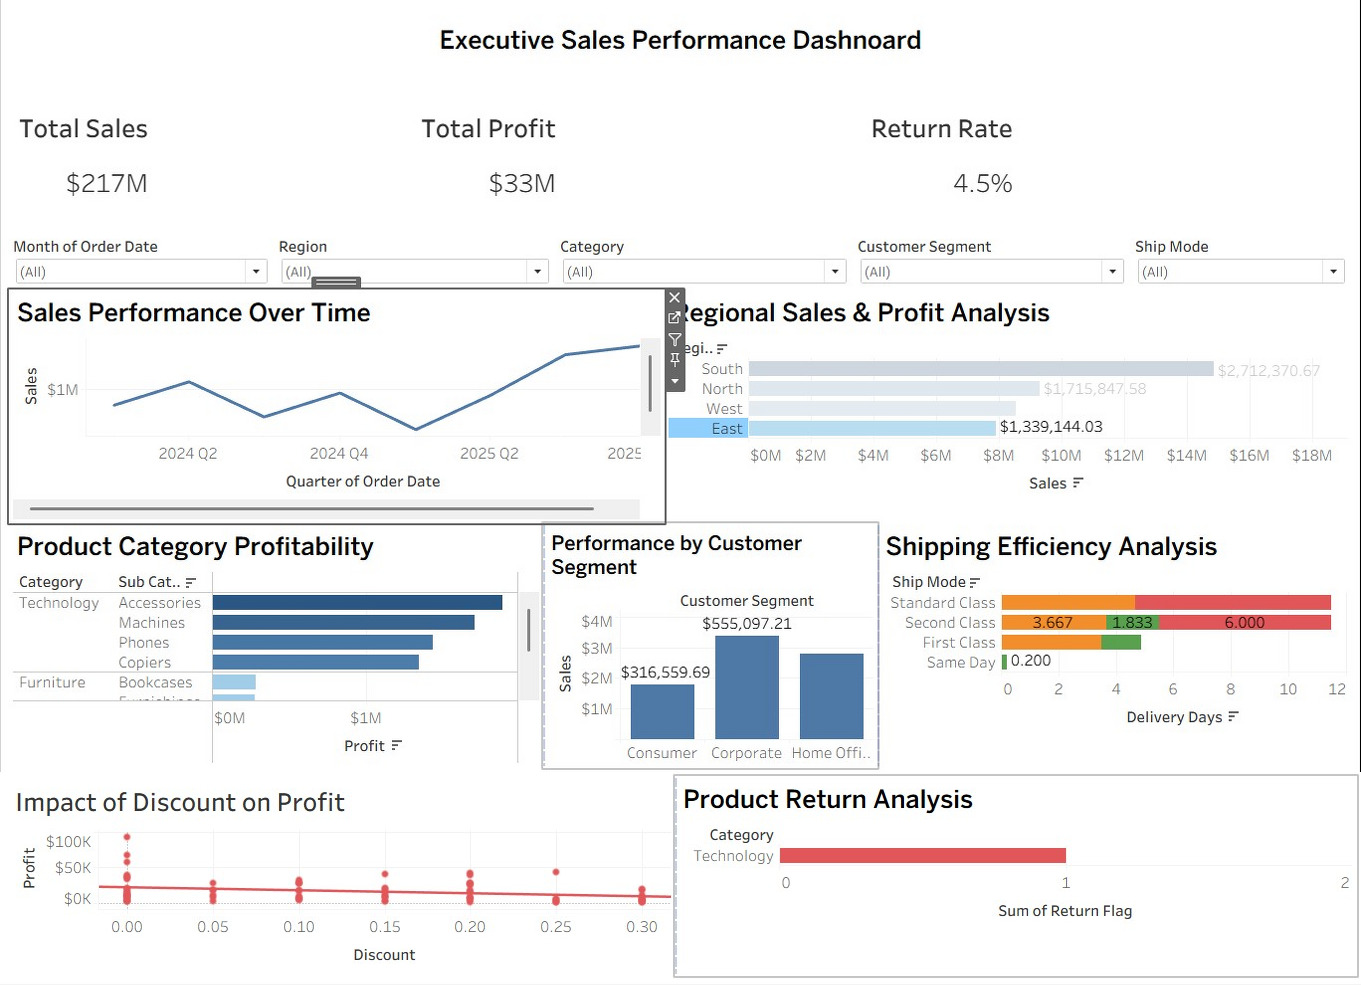

This screenshot's page, from the dashboard's own definition file:
{"tool":"tableau","page":{"name":"Sales Performance Dashboard","canvas":[1366,768],"ordinal":1},"visuals":[{"type":"text","box":[437.3,6.7,350.8,54.7]},{"type":"legend","title":"Regional Performance View","param":"[federated.09wcsd81232wdh13vvba10xhik3g].[sum:profit:qk]","box":[1198,8,160,73]},{"type":"worksheet","title":"Regional Performance View","mark":"Automatic","rows":["region"],"cols":["sales"],"box":[819.4,41.2,330.8,207.1]},{"type":"worksheet","title":"Sales Trend View","mark":"Automatic","rows":["sales"],"cols":["order_date"],"box":[44.7,52.7,365,195.6]},{"type":"legend","title":"Shipping Performance View","param":"[federated.09wcsd81232wdh13vvba10xhik3g].[none:Calculation_1160551745826823:nk]","box":[1198,81,160,93]},{"type":"legend","title":"Discount vs Profit View","param":"[federated.09wcsd81232wdh13vvba10xhik3g].[none:category:nk]","box":[1198,174,160,93]},{"type":"worksheet","title":"Category Profitability View","mark":"Automatic","rows":["category","sub_category"],"cols":["profit"],"box":[8.6,250.2,455.3,224.4]},{"type":"worksheet","title":"Customer Segment View","mark":"Automatic","rows":["sales"],"cols":["customer_segment"],"box":[731,263.7,455.3,256]},{"type":"legend","title":"Return Analysis View","param":"[federated.09wcsd81232wdh13vvba10xhik3g].[none:category:nk]","box":[1198,267,160,93]},{"type":"worksheet","title":"Discount vs Profit View","mark":"Circle","rows":["profit"],"cols":["discount"],"box":[10.4,489.9,455.3,256]},{"type":"worksheet","title":"Shipping Performance View","mark":"Bar","rows":["ship_mode"],"cols":["delivery_days"],"box":[830.8,532.1,355.5,209]},{"type":"worksheet","title":"Return Analysis View","mark":"Bar","rows":["category"],"cols":["return_flag"],"box":[474.3,570.5,345.1,167.8]}]}

Visuals, with their boxes on the page's 1366x768 design canvas (x1, y1, x2, y2). These are canvas units, not pixel positions in the 1361x985 screenshot, which may show the page scaled, cropped or inside an application window:
text: x1=437, y1=7, x2=788, y2=61
"Regional Performance View" legend: x1=1198, y1=8, x2=1358, y2=81
"Regional Performance View" worksheet: x1=819, y1=41, x2=1150, y2=248
"Sales Trend View" worksheet: x1=45, y1=53, x2=410, y2=248
"Shipping Performance View" legend: x1=1198, y1=81, x2=1358, y2=174
"Discount vs Profit View" legend: x1=1198, y1=174, x2=1358, y2=267
"Category Profitability View" worksheet: x1=9, y1=250, x2=464, y2=475
"Customer Segment View" worksheet: x1=731, y1=264, x2=1186, y2=520
"Return Analysis View" legend: x1=1198, y1=267, x2=1358, y2=360
"Discount vs Profit View" worksheet (Circle marks): x1=10, y1=490, x2=466, y2=746
"Shipping Performance View" worksheet (Bar marks): x1=831, y1=532, x2=1186, y2=741
"Return Analysis View" worksheet (Bar marks): x1=474, y1=570, x2=819, y2=738
